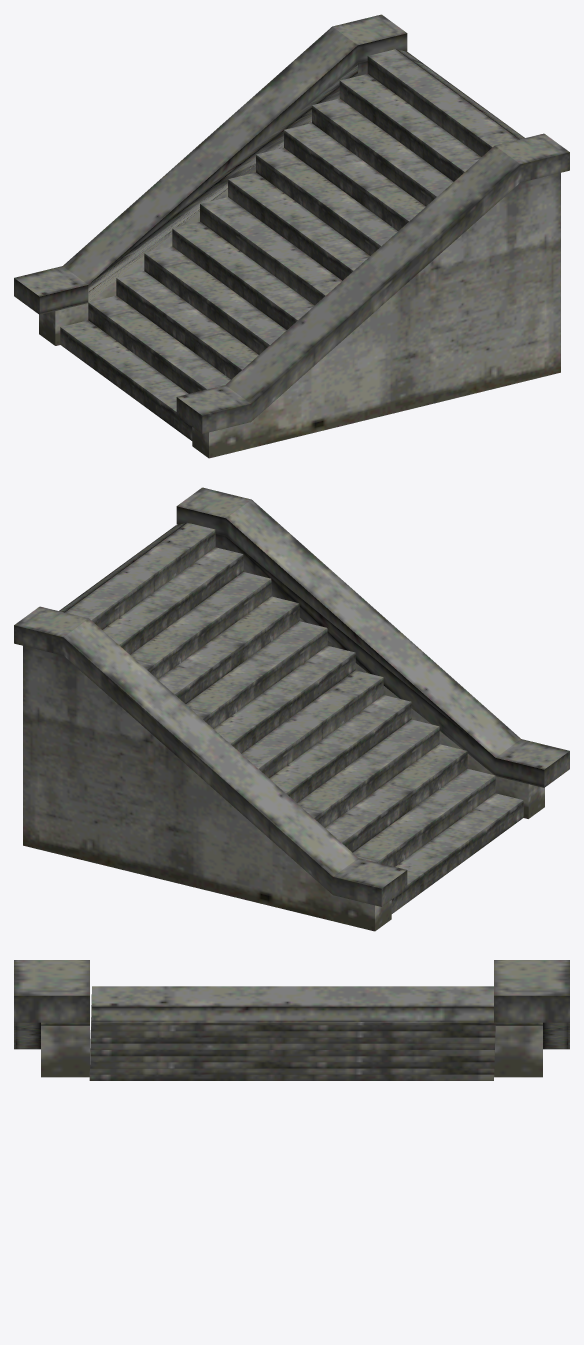
Rendered from Concrete_stairs.fbx.
3 renders of one model, top to bottom at view 1: azimuth 30°, elevation 25°; view 2: azimuth 150°, elevation 25°; view 3: azimuth 270°, elevation 25°, orthographic. The views are drawn at different scales.
Parts seen in each view (by area): view 1: Concrete_stairs; view 2: Concrete_stairs; view 3: Concrete_stairs.
Part boxes in pixels (bbox=[...]): Concrete_stairs: bbox=[14, 14, 569, 458]; Concrete_stairs: bbox=[14, 487, 569, 931]; Concrete_stairs: bbox=[14, 960, 569, 1080].
Size of the model in its own units: 283 by 167 by 251.
